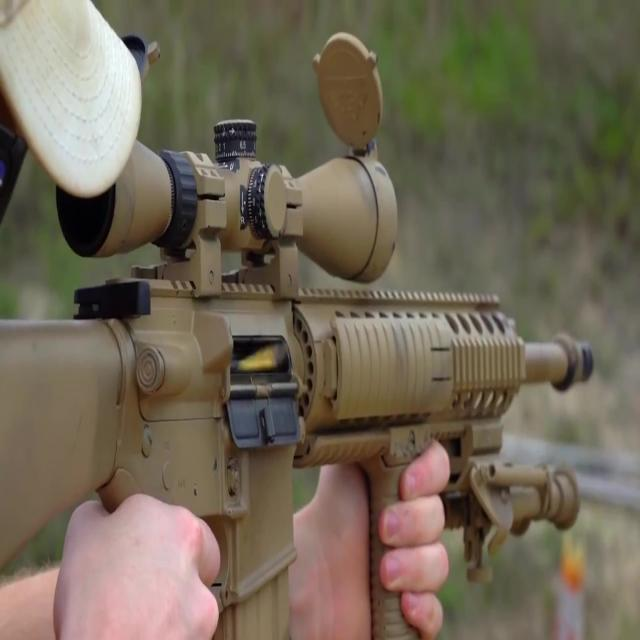Weapon: (4, 24, 602, 639)
